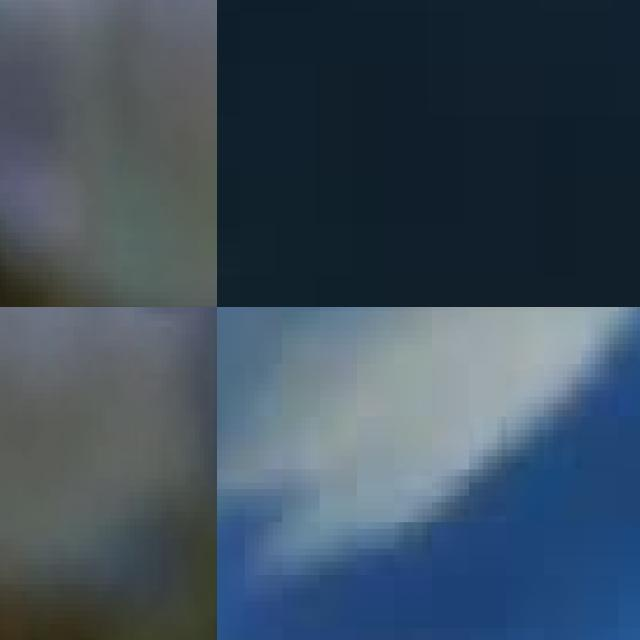fish: (0, 307, 217, 640), (0, 0, 217, 307)
